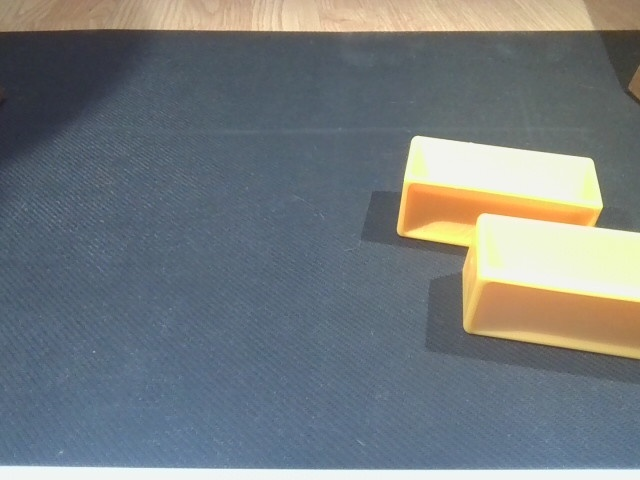YellowSample: (458, 210, 640, 359), (394, 129, 602, 253)
